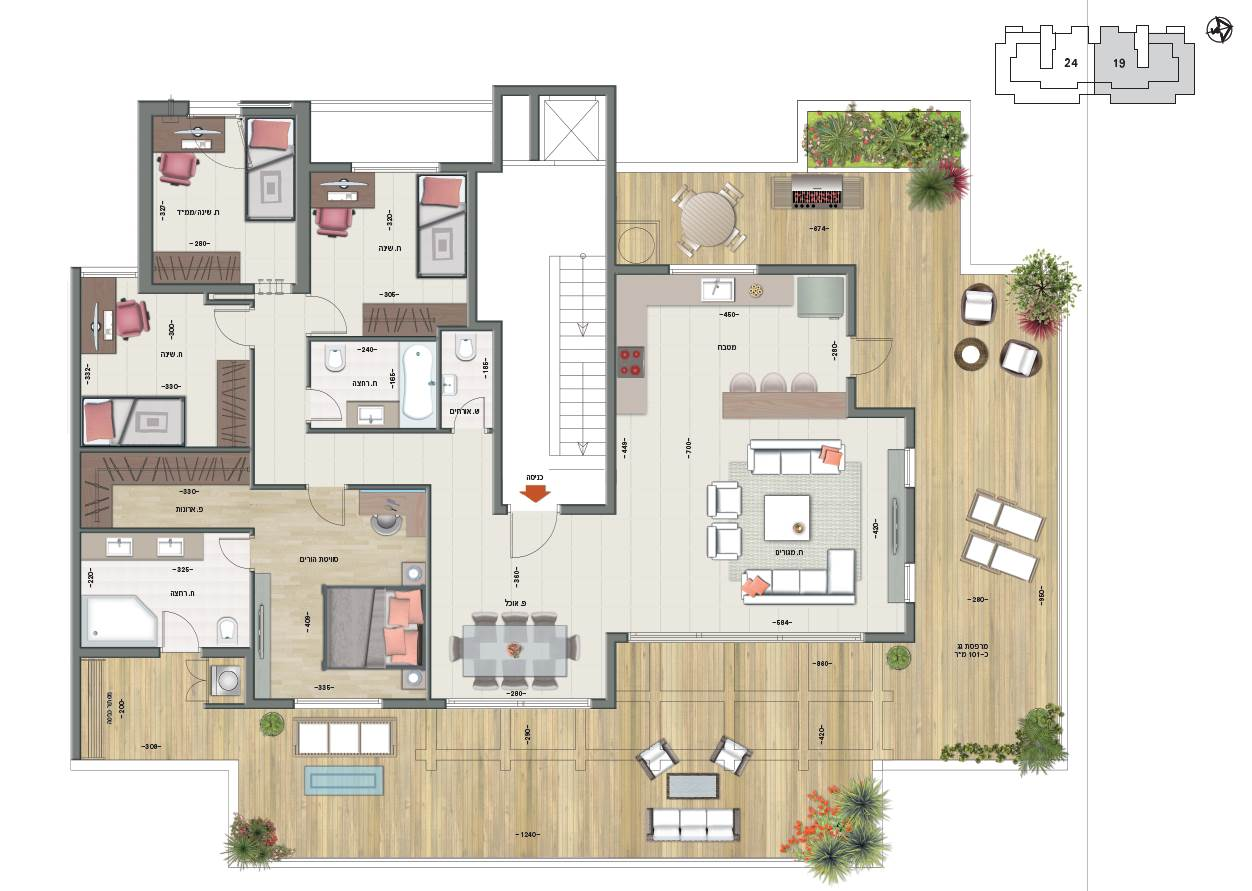balcony: (244, 702, 854, 857)
securityroom: (136, 100, 317, 295)
